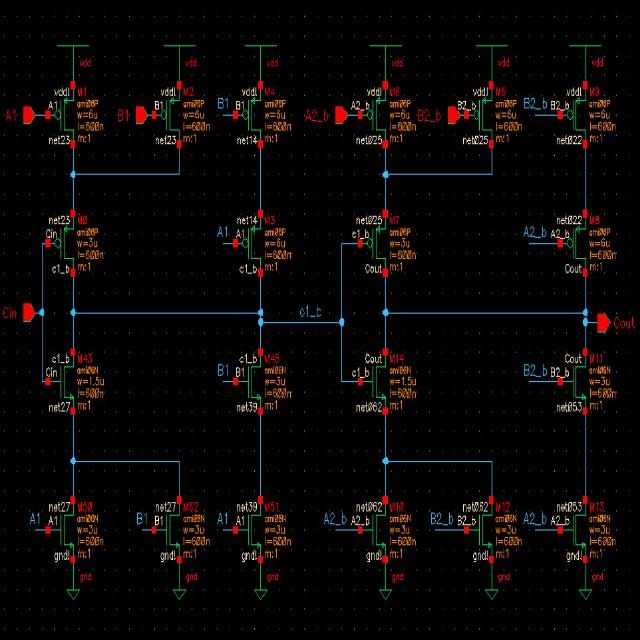gnd: (63, 552, 97, 616), (363, 548, 393, 608), (242, 550, 270, 606), (161, 552, 188, 610), (576, 554, 595, 607), (483, 557, 498, 601)
nmos: (459, 497, 496, 573), (554, 496, 591, 565), (229, 347, 265, 417), (355, 491, 391, 561), (230, 493, 265, 565), (354, 350, 389, 420), (44, 495, 78, 566), (554, 349, 590, 415), (151, 493, 182, 563), (46, 350, 78, 417)
pmos: (352, 208, 390, 286), (553, 206, 590, 285), (554, 78, 588, 163), (42, 82, 78, 158), (232, 79, 264, 158), (462, 82, 496, 152), (356, 80, 388, 154), (152, 76, 182, 151), (231, 206, 263, 276), (46, 207, 78, 276)
vdd: (363, 40, 411, 88), (565, 31, 607, 85), (469, 32, 512, 81), (243, 36, 290, 79), (158, 32, 205, 72), (57, 36, 98, 74)
